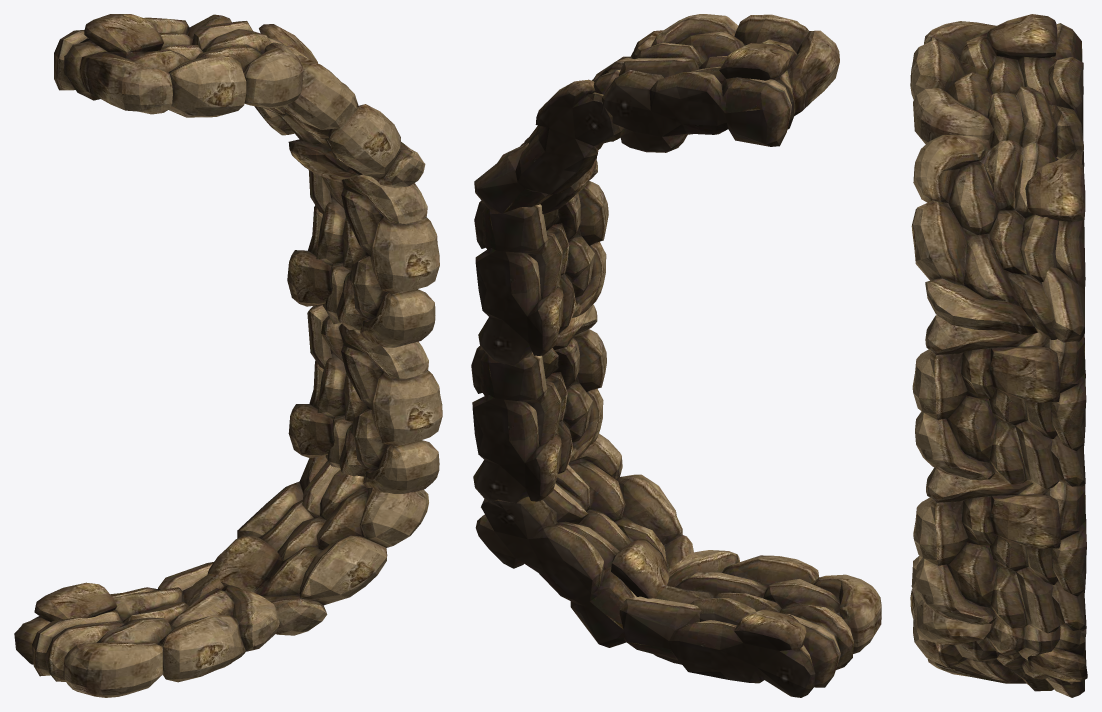
File: sandbags.dae
The picture shows the model from 3 angles, left to right: view 1: azimuth 30°, elevation 25°; view 2: azimuth 150°, elevation 25°; view 3: azimuth 270°, elevation 25°; orthographic projection. The views are drawn at different scales.
Parts seen in each view (by area): view 1: node; view 2: node; view 3: node.
Part boxes in pixels (<box>): node: <box>14,14,442,697</box>; node: <box>471,14,881,697</box>; node: <box>910,14,1087,697</box>.
Size of the model in its own units: 5.56 by 9.26 by 2.4.
1 material, 1 textured.
